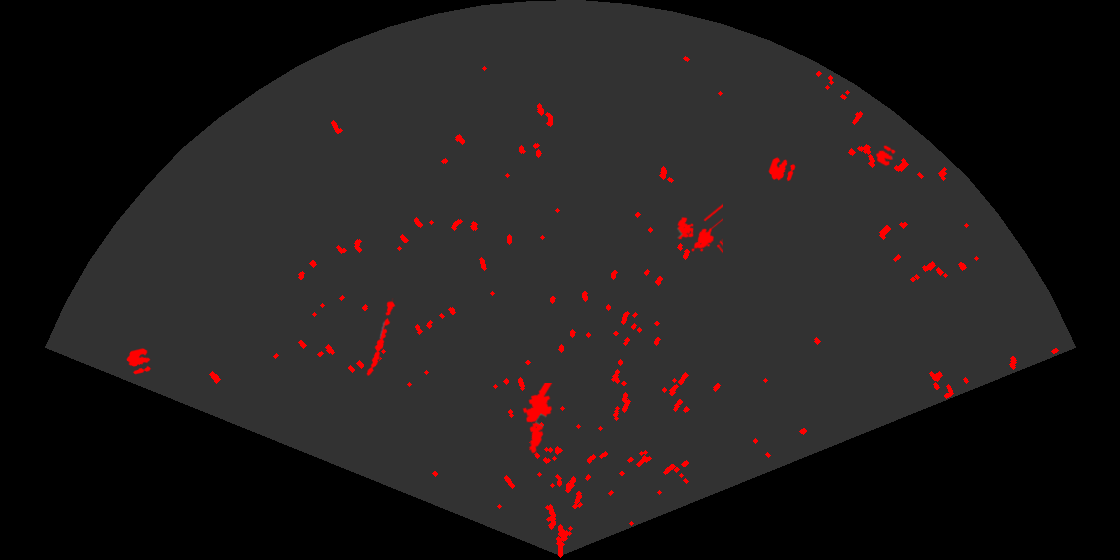ball: (767, 155, 797, 183), (125, 347, 153, 376), (874, 144, 897, 168)
cage: (676, 203, 723, 255)
chain: (365, 298, 397, 378)
frogman: (521, 383, 554, 455)
